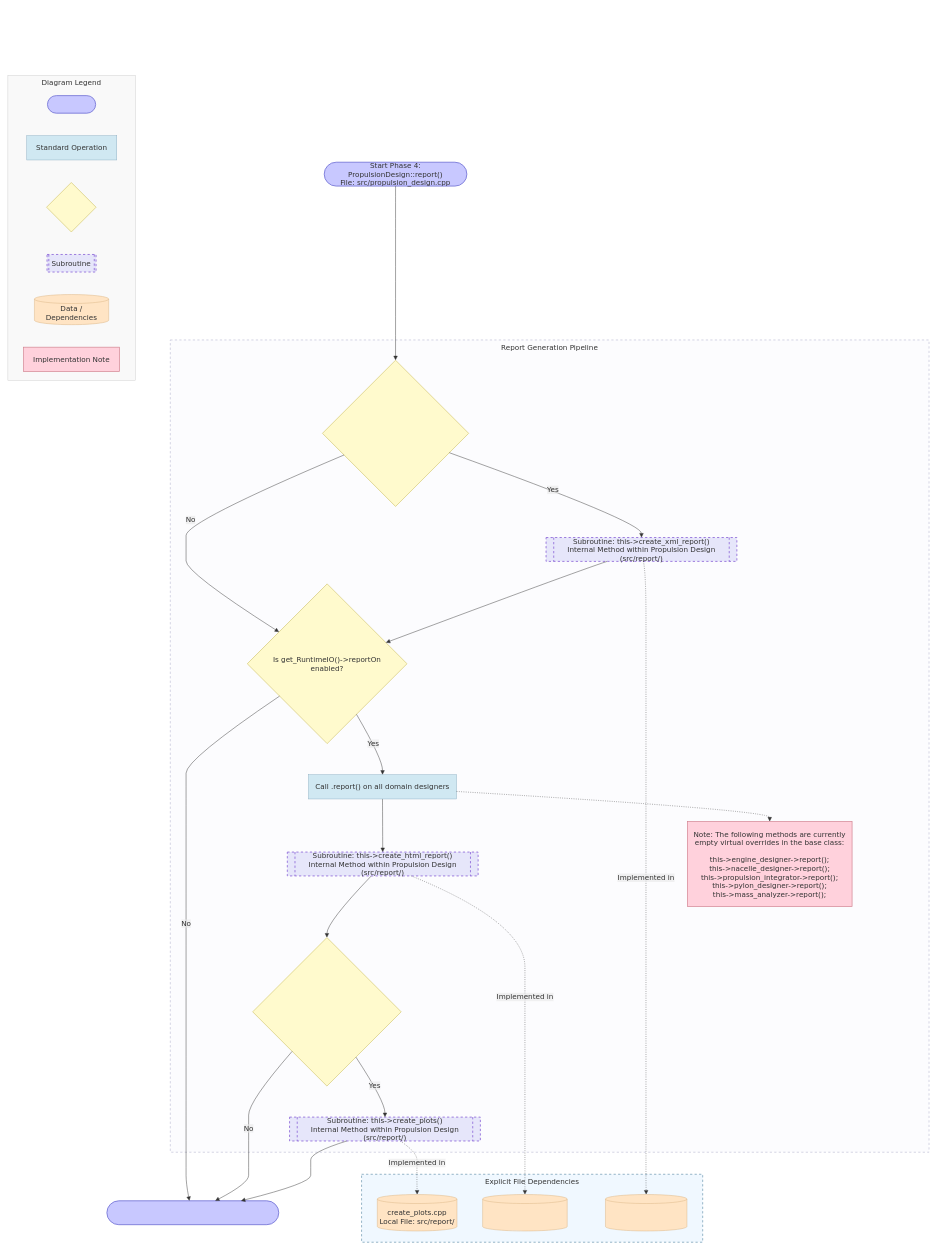
This 937x1250 diagram has some shape labels left out. The centre of each missing label's shape, as x and y in pixels:
create_html_report.cpp Local File: src/report/: pixel 524 1212
create_xml_report.cpp Local File: src/report/: pixel 646 1212
Decision: pixel 71 207
End Phase 4: PropulsionDesign::report() Complete Return control to main loop: pixel 192 1212
Entry / Exit: pixel 71 104
Is get_RuntimeIO()->plotOn enabled?: pixel 326 1011
Is get_RuntimeIO()->xmlOn enabled?: pixel 395 433
